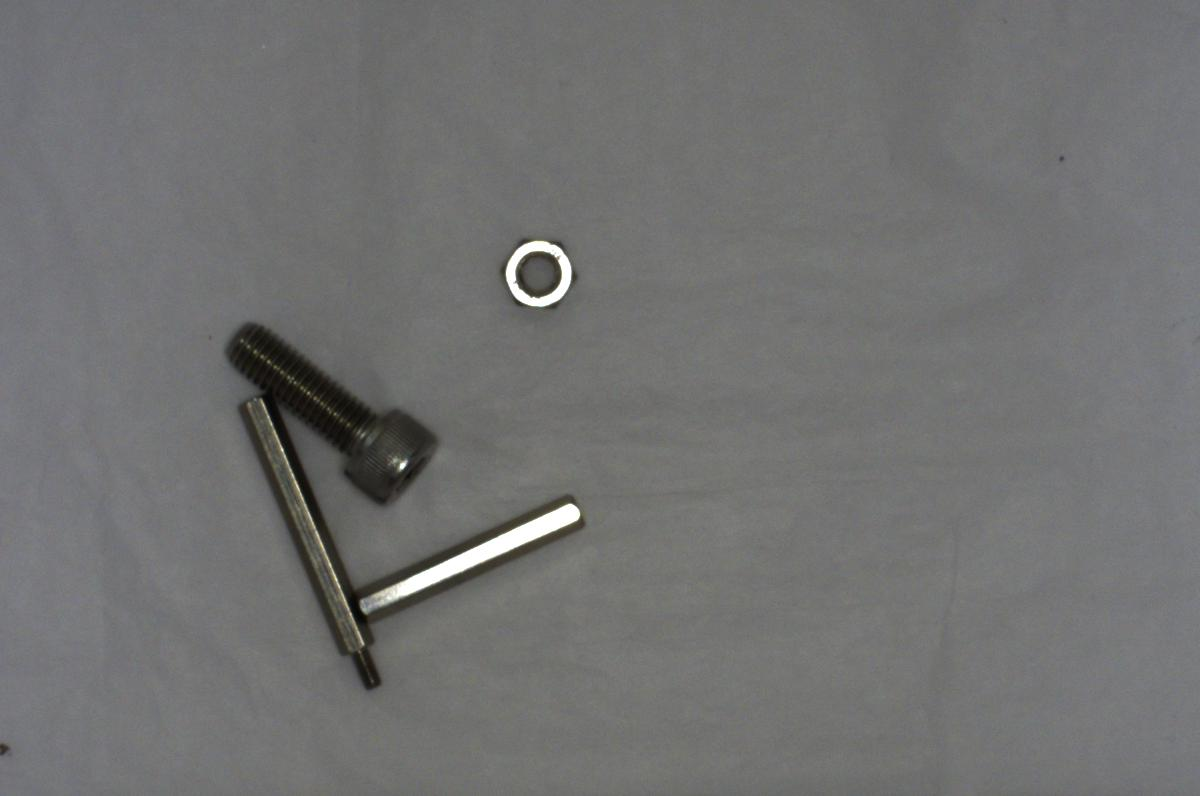Double hexagonal column: (358, 495, 588, 625)
Hexagon nut: (490, 233, 579, 313)
Hexagon screw: (218, 319, 441, 507)
Hexagonal steel column: (232, 392, 390, 695)
